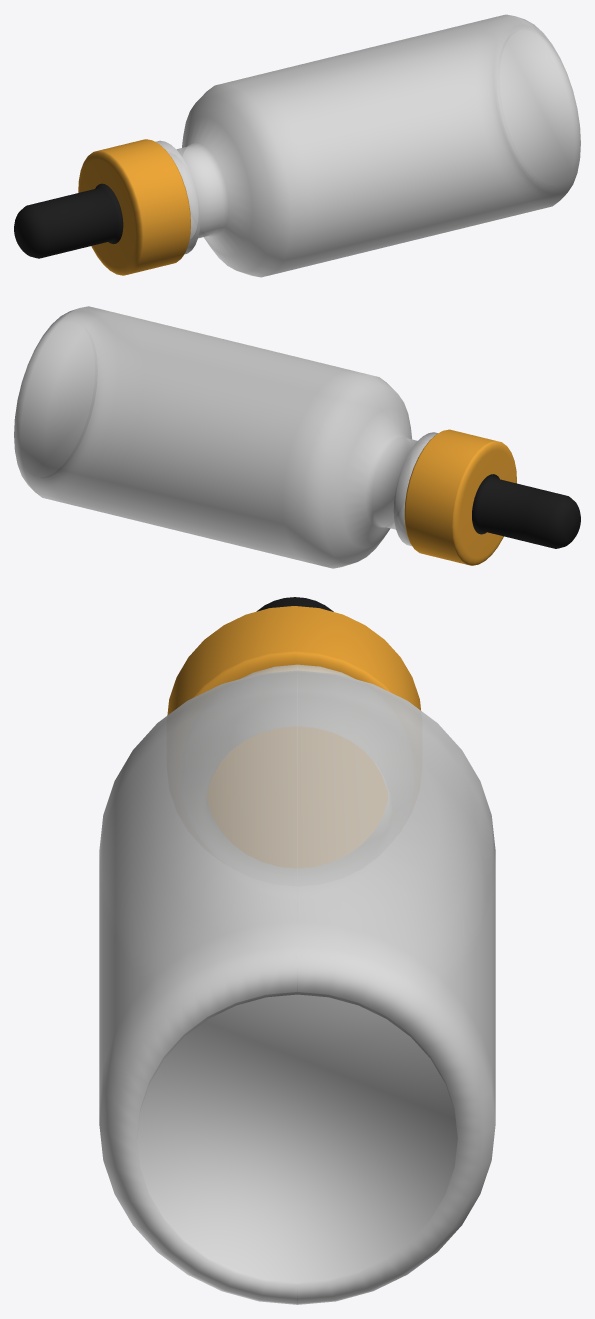
File: SerumBottle2.gltf
3 views of the same model, one above another, from view 1: azimuth 30°, elevation 25°; view 2: azimuth 150°, elevation 25°; view 3: azimuth 270°, elevation 25° (orthographic). The views are drawn at different scales.
Visible parts, largest first — view 1: Cylinder, Cylinder.001, Cylinder.002; view 2: Cylinder, Cylinder.001, Cylinder.002; view 3: Cylinder, Cylinder.001.
Part boxes in pixels (left/top/right/bottom): Cylinder: left=155, top=14, right=580, bottom=277; Cylinder.001: left=78, top=139, right=190, bottom=275; Cylinder.002: left=14, top=183, right=123, bottom=258; Cylinder: left=14, top=306, right=437, bottom=568; Cylinder.001: left=404, top=429, right=516, bottom=565; Cylinder.002: left=472, top=474, right=580, bottom=548; Cylinder: left=99, top=664, right=495, bottom=1304; Cylinder.001: left=167, top=606, right=420, bottom=867.
Size of the model in its own units: 4.21 by 1.39 by 1.39.
